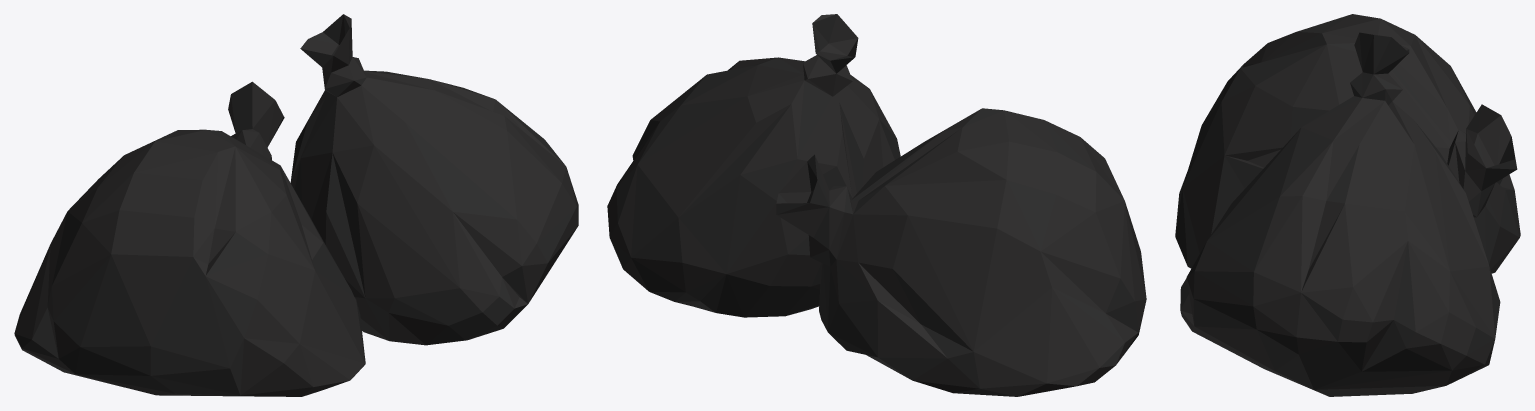
The model's file is trashbags_lod.glb.
The picture shows the model from 3 angles, left to right: view 1: azimuth 30°, elevation 25°; view 2: azimuth 150°, elevation 25°; view 3: azimuth 270°, elevation 25°; orthographic projection. The views are drawn at different scales.
Parts seen in each view (by area): view 1: TrashBag_2; view 2: TrashBag_2; view 3: TrashBag_2.
Part boxes in pixels (box(x1,y1,x2,y2)): TrashBag_2: box(14, 14, 578, 396); TrashBag_2: box(607, 14, 1146, 396); TrashBag_2: box(1175, 14, 1520, 396).
Bounding box in the file's own units: 0.9061 × 0.5244 × 0.5229.
1 material, 1 textured.
